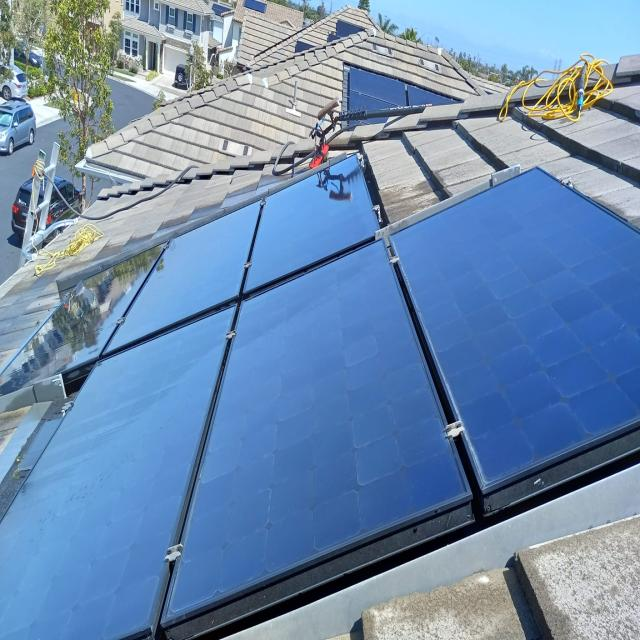clean-solar-panel: (0, 156, 640, 638)
